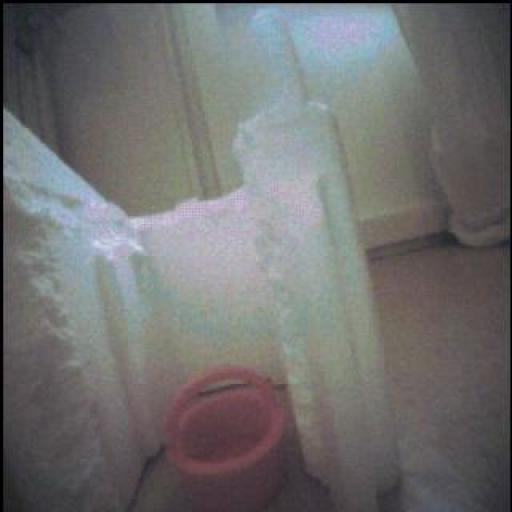Basket: (167, 367, 286, 512)
